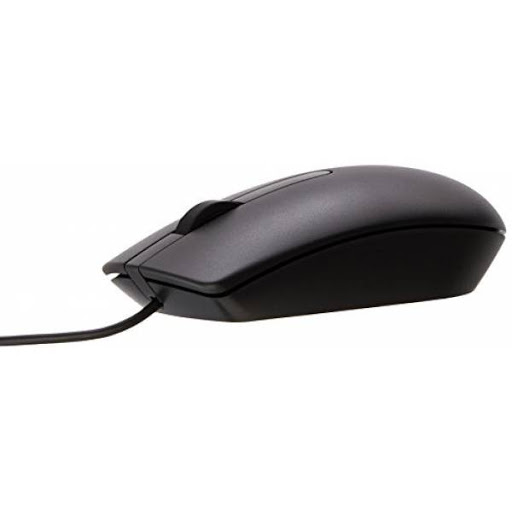dell-mouse-ms116: (1, 163, 509, 364)
